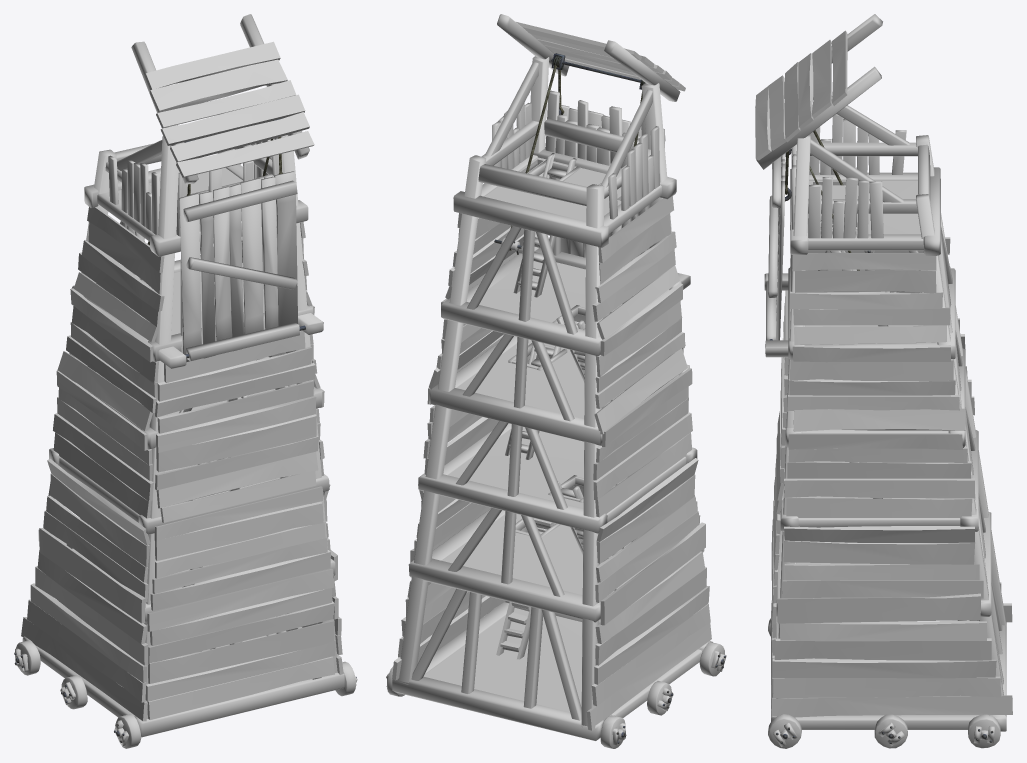
File: Siege_Tower.FBX
3 renders of one model, left to right at view 1: azimuth 30°, elevation 25°; view 2: azimuth 150°, elevation 25°; view 3: azimuth 270°, elevation 25°, orthographic.
Parts seen in each view (by area): view 1: Siege_Tower; view 2: Siege_Tower; view 3: Siege_Tower.
Boxes of the visible parts, x1=… form: Siege_Tower: x1=14, y1=14, x2=357, y2=748; Siege_Tower: x1=386, y1=14, x2=726, y2=748; Siege_Tower: x1=755, y1=14, x2=1012, y2=748.
Size of the model in its own units: 803 by 2127 by 759.
